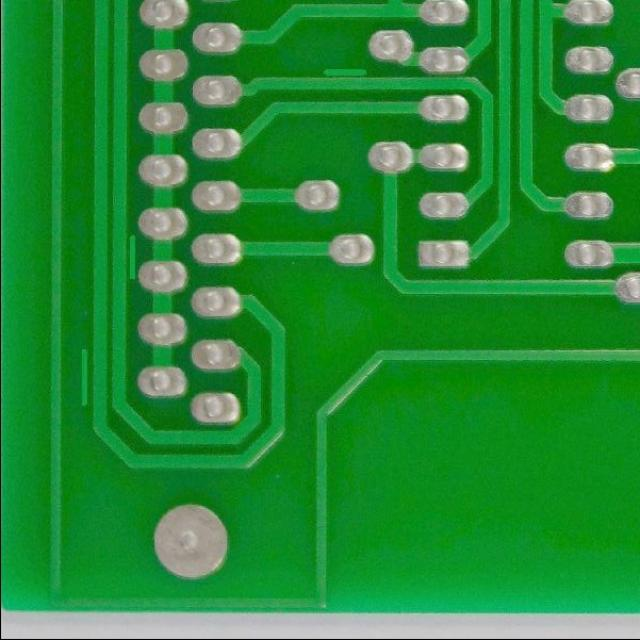spurious_copper: (67, 346, 97, 412), (117, 230, 144, 284), (316, 61, 368, 82)
